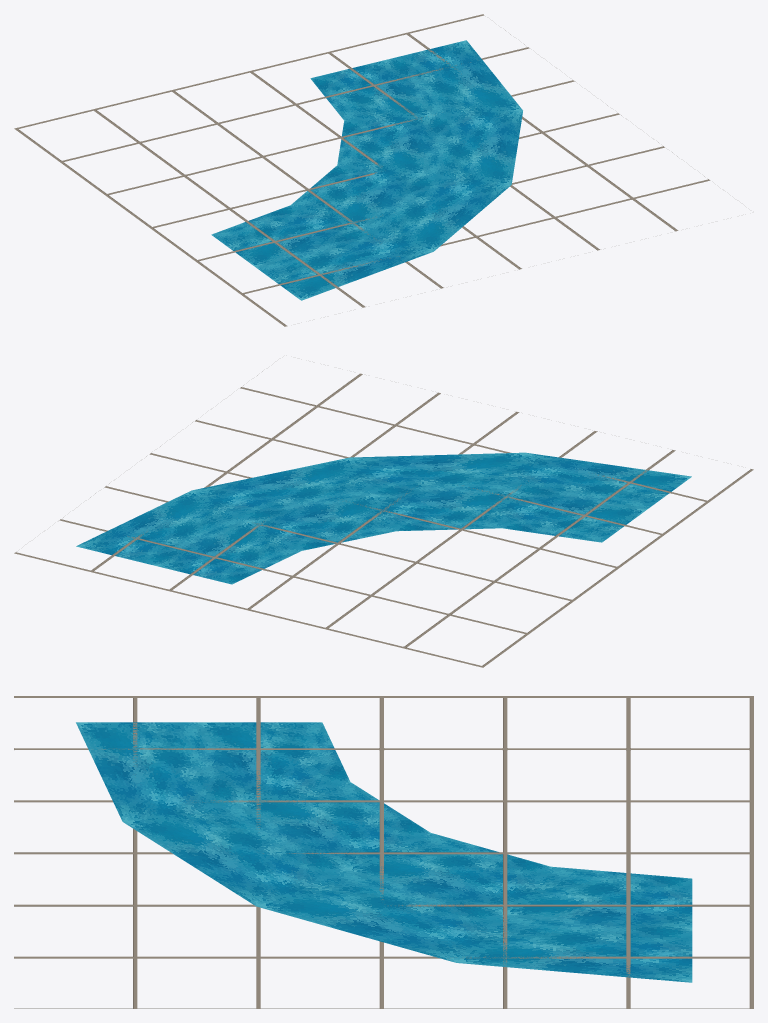
Rendered from Terrain_Water_River_Curve_CCW_5x5.glb.
The picture shows the model from 3 angles, top to bottom: view 1: azimuth 30°, elevation 25°; view 2: azimuth 150°, elevation 25°; view 3: azimuth 270°, elevation 25°; orthographic projection. The views are drawn at different scales.
Visible parts, largest first — view 1: Terrain_Water_River_Curve_CCW_5x5, Floor; view 2: Terrain_Water_River_Curve_CCW_5x5, Floor; view 3: Terrain_Water_River_Curve_CCW_5x5, Floor.
Boxes of the visible parts, box(x1,y1,x2,y2) form: Terrain_Water_River_Curve_CCW_5x5: box(211, 40, 522, 300); Floor: box(14, 14, 710, 326); Terrain_Water_River_Curve_CCW_5x5: box(76, 452, 691, 584); Floor: box(14, 371, 753, 667); Terrain_Water_River_Curve_CCW_5x5: box(76, 722, 692, 982); Floor: box(14, 696, 753, 1008).
Size of the model in its own units: 600 by 6.68e-05 by 600.
Materials: 2 (2 with a texture image).
